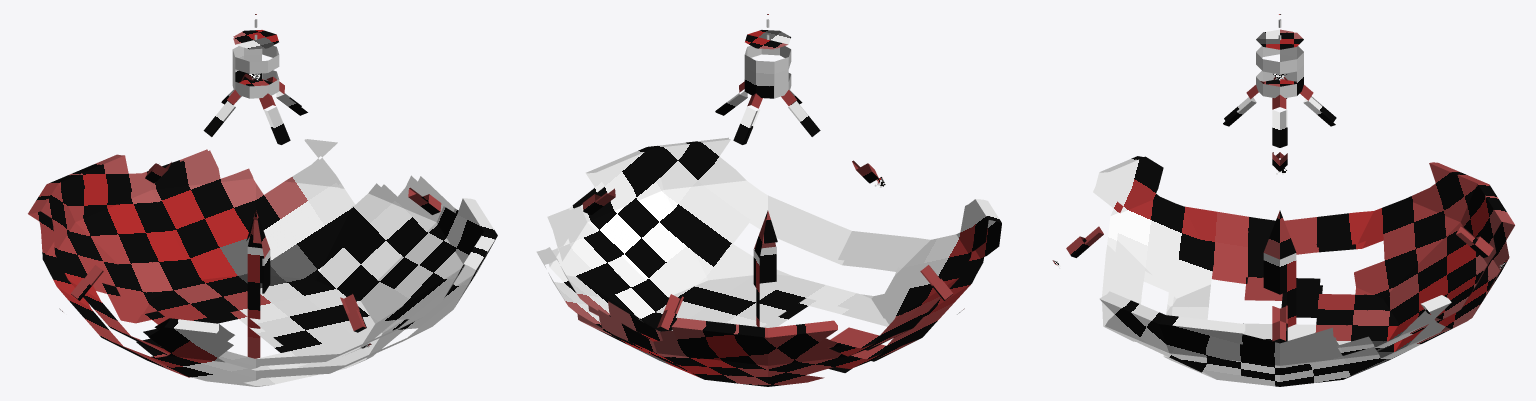
Rendered from kamesuta_antenna.obj.
The picture shows the model from 3 angles, left to right: view 1: azimuth 30°, elevation 25°; view 2: azimuth 150°, elevation 25°; view 3: azimuth 270°, elevation 25°; orthographic projection.
Parts seen in each view (by area): view 1: Cylinder.001, Cylinder.008_Cylinder.005, Cylinder.003, Cylinder.005_Cylinder.004, Cylinder.004, Cylinder.006_Cylinder.004, Cylinder.007_Cylinder.004; view 2: Cylinder.001, Cylinder.008_Cylinder.005, Cylinder.003, Cylinder.007_Cylinder.004, Cylinder.004, Cylinder.006_Cylinder.004, Cylinder.005_Cylinder.004; view 3: Cylinder.001, Cylinder.008_Cylinder.005, Cylinder.003, Cylinder.006_Cylinder.004, Cylinder.007_Cylinder.004, Cylinder.005_Cylinder.004.
Boxes of the visible parts, <box> form: Cylinder.001: <box>28,139,497,386</box>; Cylinder.008_Cylinder.005: <box>232,30,279,98</box>; Cylinder.003: <box>246,210,270,358</box>; Cylinder.005_Cylinder.004: <box>254,73,371,348</box>; Cylinder.004: <box>59,75,258,312</box>; Cylinder.006_Cylinder.004: <box>252,73,441,214</box>; Cylinder.007_Cylinder.004: <box>145,73,260,183</box>; Cylinder.001: <box>536,137,1001,386</box>; Cylinder.008_Cylinder.005: <box>744,30,791,98</box>; Cylinder.003: <box>753,210,777,326</box>; Cylinder.007_Cylinder.004: <box>657,93,762,331</box>; Cylinder.004: <box>781,90,964,314</box>; Cylinder.006_Cylinder.004: <box>582,81,747,214</box>; Cylinder.005_Cylinder.004: <box>790,90,885,187</box>; Cylinder.001: <box>1093,156,1514,386</box>; Cylinder.008_Cylinder.005: <box>1256,29,1303,98</box>; Cylinder.003: <box>1263,210,1296,327</box>; Cylinder.006_Cylinder.004: <box>1272,73,1287,343</box>; Cylinder.007_Cylinder.004: <box>1276,74,1507,268</box>; Cylinder.005_Cylinder.004: <box>1052,74,1283,268</box>.
Size of the model in its own units: 3.82 by 3.1 by 3.82.
